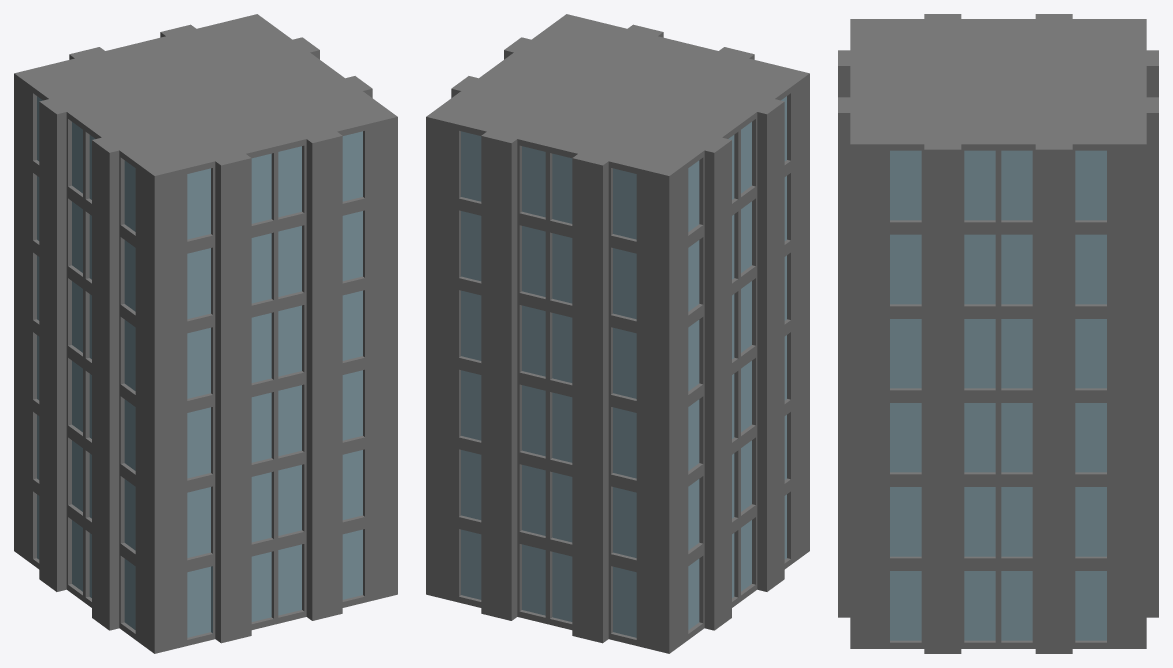
Rendered from Building_Var2.fbx.
The picture shows the model from 3 angles, left to right: view 1: azimuth 30°, elevation 25°; view 2: azimuth 150°, elevation 25°; view 3: azimuth 270°, elevation 25°; orthographic projection. The views are drawn at different scales.
Parts seen in each view (by area): view 1: Building_Var2; view 2: Building_Var2; view 3: Building_Var2.
Part boxes in pixels (left/top/right/bottom): Building_Var2: left=14, top=14, right=397, bottom=653; Building_Var2: left=426, top=14, right=809, bottom=653; Building_Var2: left=838, top=14, right=1158, bottom=653.
Bounding box in the file's own units: 13.19 × 22.89 × 13.19.
